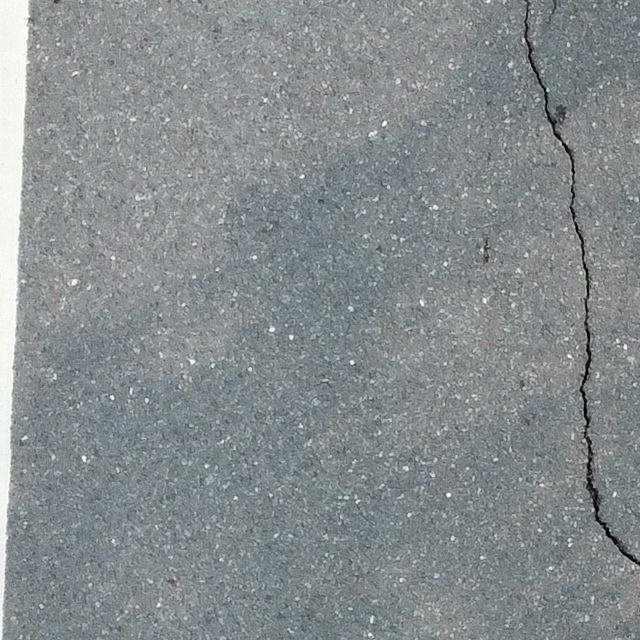LongitudinalCrack: (522, 1, 639, 565)
